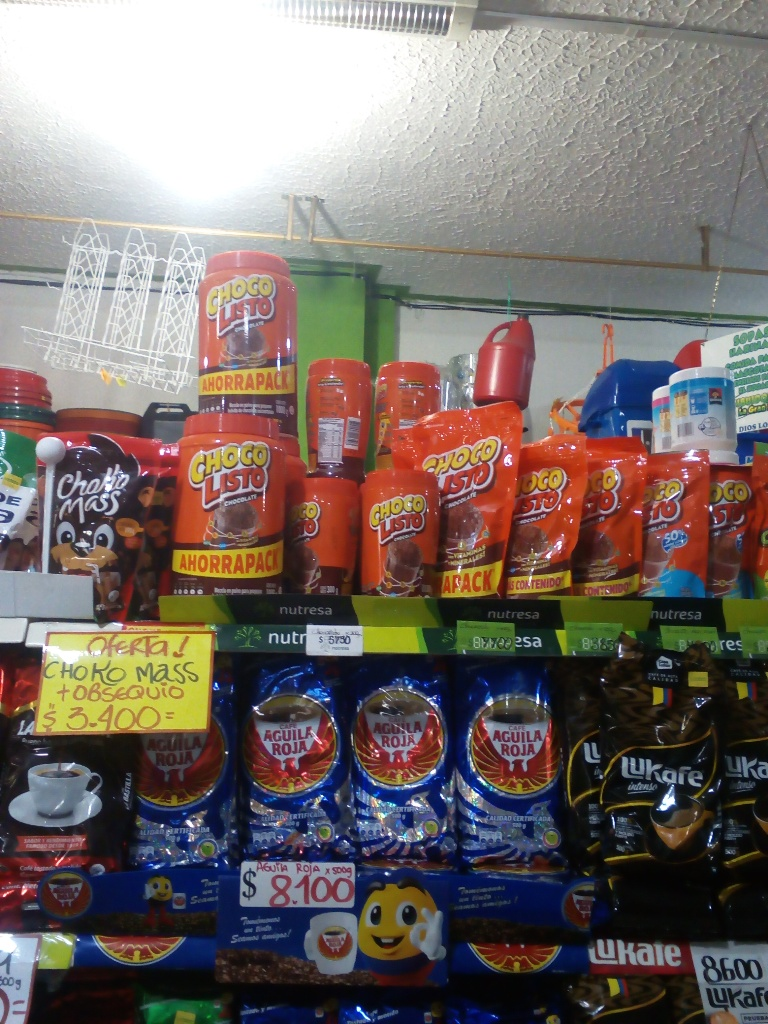COL0170103DYP20000: (564, 425, 648, 596)
COL0170103DYP40000: (403, 388, 522, 600)
COL0170103TRR00100: (164, 411, 293, 601)
COL0170103TRR30000: (286, 470, 364, 600)
COL0170104DYP20000: (635, 441, 718, 607)
